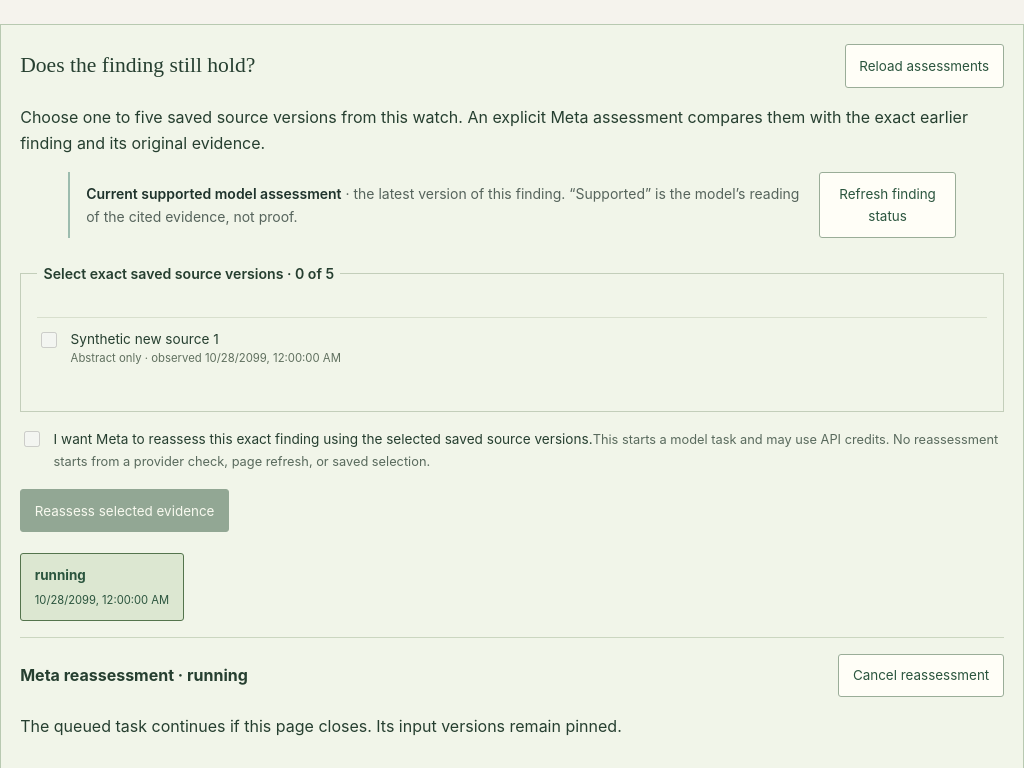
Test: explicit version-bound Meta reassessments › cancels through the existing owned run endpoint and keeps its actual saved status
Click the button "Cancel reassessment": (921, 675) 838,654 -> 1004,697
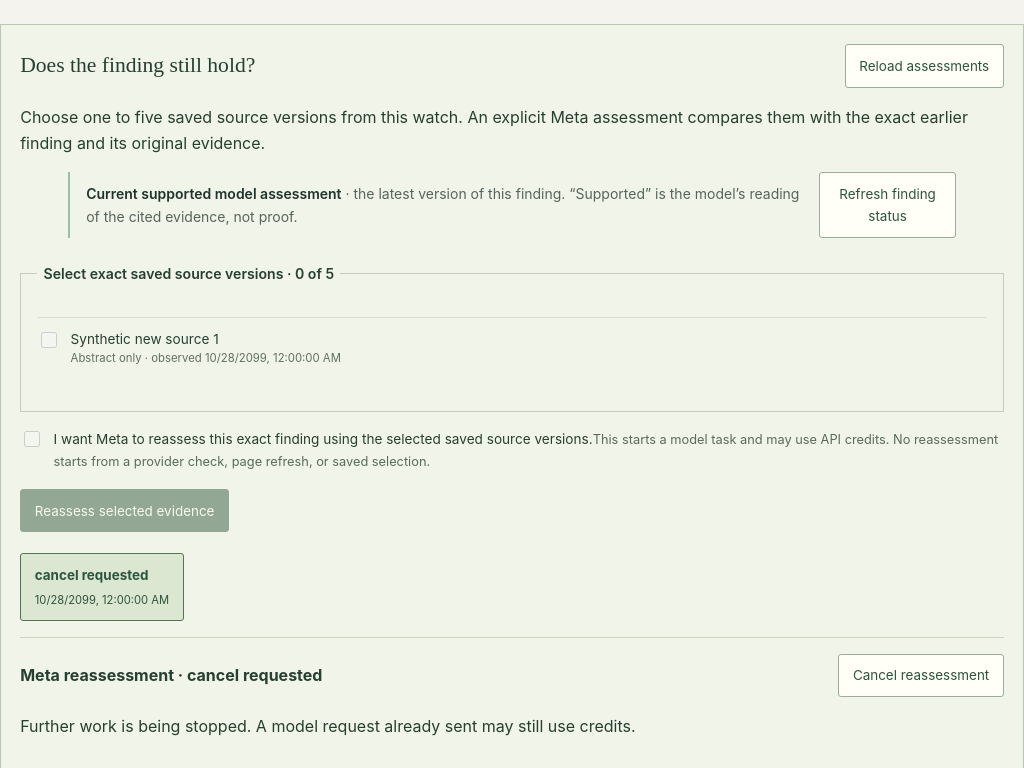
Expected: the text "Meta reassessment · cancel requested" is shown, 20,662 -> 322,688
